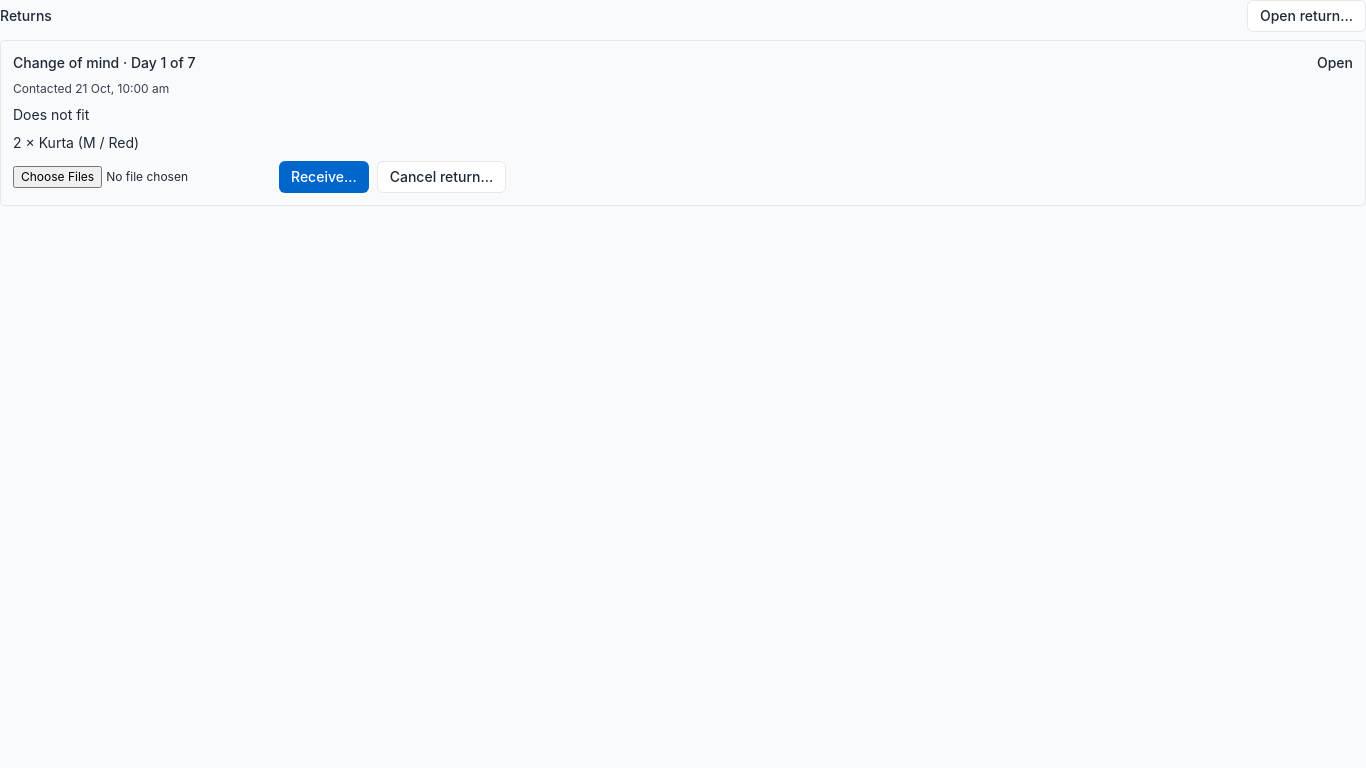
Test case: Receive dialog › receiving nothing is a rejection and says so
Click the button "Receive…" at coordinates (324, 177), box [279, 161, 369, 193]
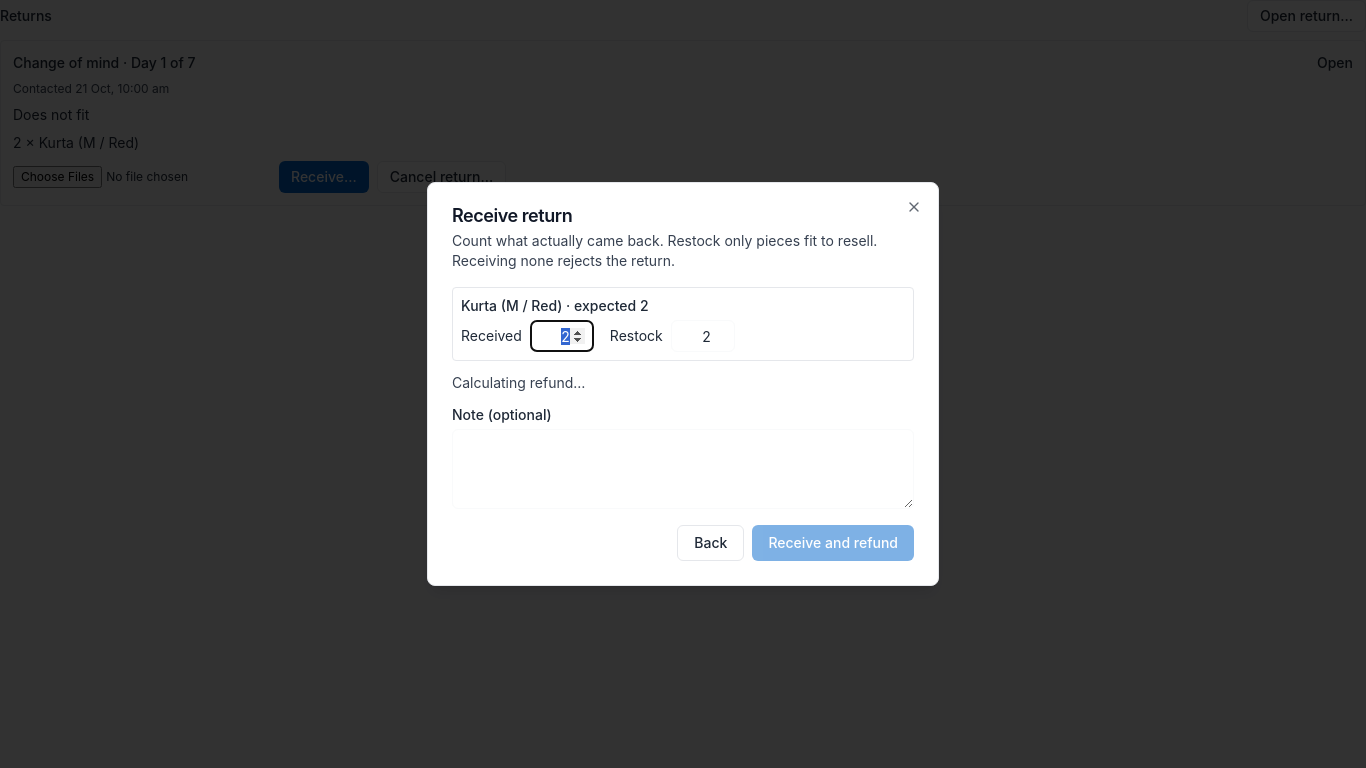
Replace the text in the number field named "Received units of Kurta" with "0" at coordinates (562, 336), box [530, 320, 594, 352]
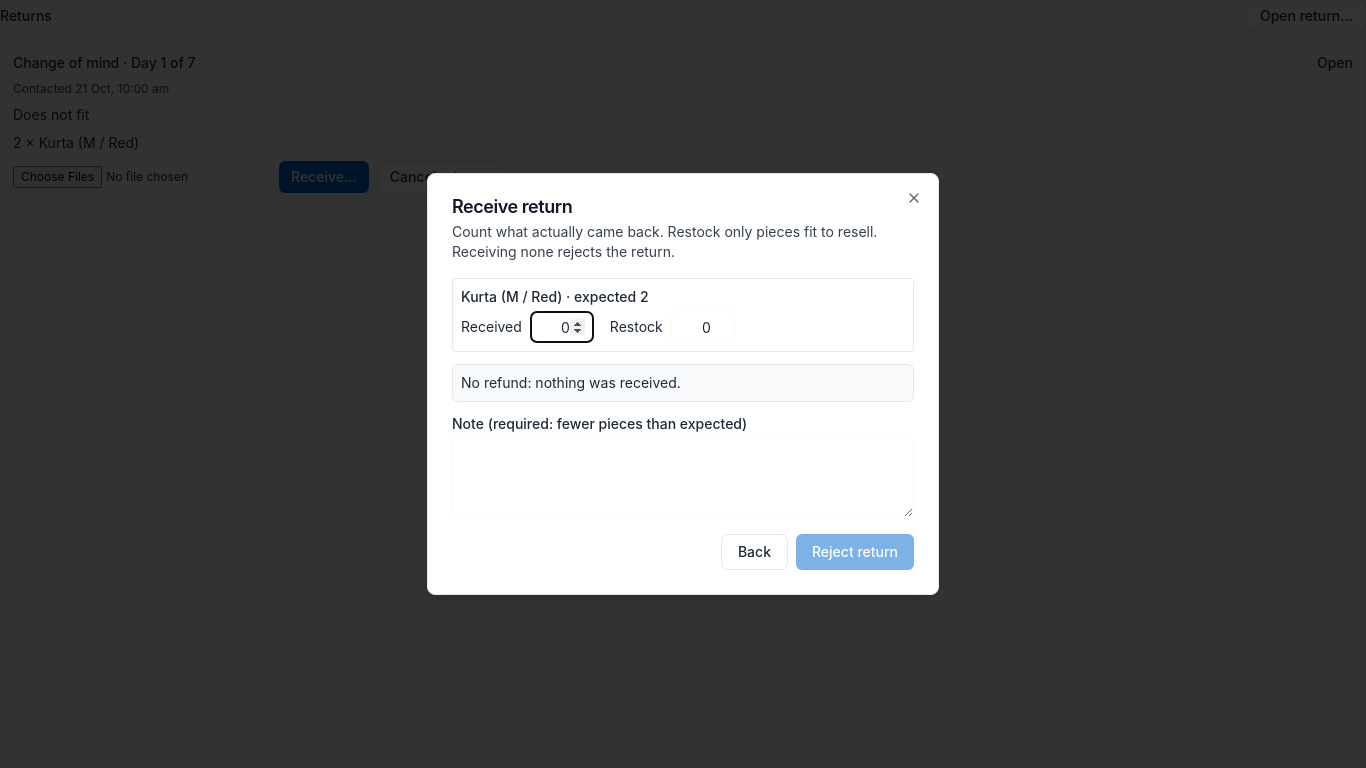
Now the button "Reject return" is disabled, box [796, 534, 914, 570]
Now the dialog shows "No refund", box [461, 374, 681, 391]
